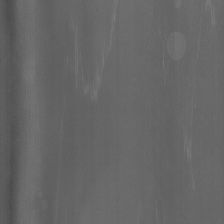silk_spot: (70, 16, 116, 118)
